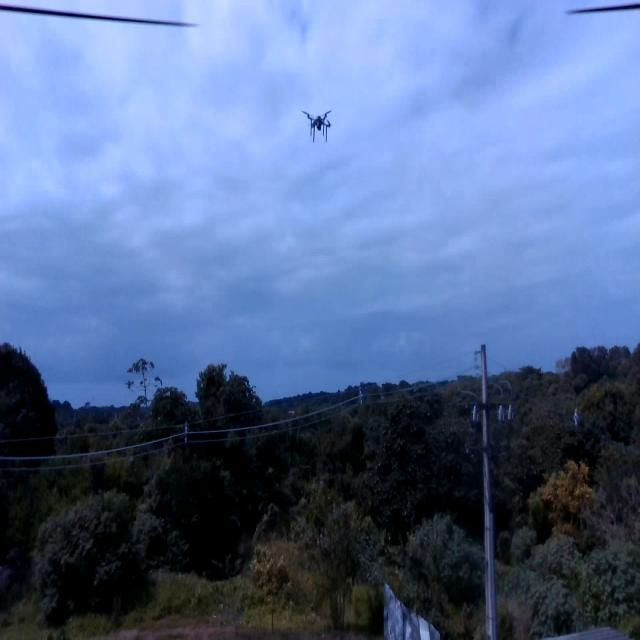-uav-: (298, 98, 334, 152)
